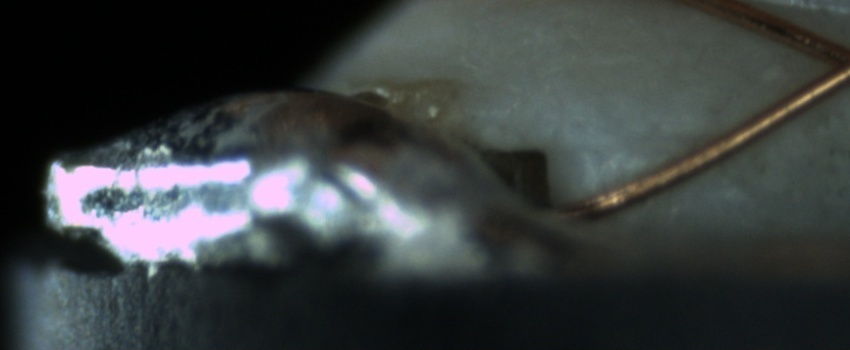CL: (801, 23, 849, 98)
DL: (581, 110, 715, 173)
